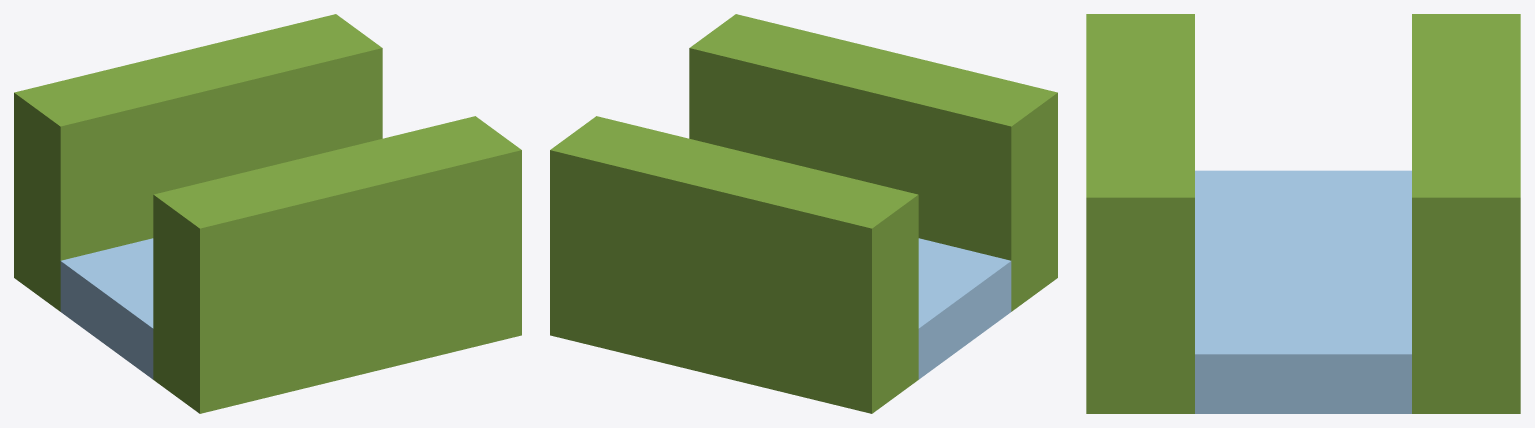
Rendered from roadTile_195.fbx.
3 renders of one model, left to right at view 1: azimuth 30°, elevation 25°; view 2: azimuth 150°, elevation 25°; view 3: azimuth 270°, elevation 25°, orthographic. The views are drawn at different scales.
Visible parts, largest first — view 1: roadTile_195; view 2: roadTile_195; view 3: roadTile_195.
Part boxes in pixels (x1=…): roadTile_195: x1=14, y1=14, x2=521, y2=413; roadTile_195: x1=550, y1=14, x2=1057, y2=413; roadTile_195: x1=1086, y1=14, x2=1520, y2=413.
Size of the model in its own units: 118 by 64.96 by 118.
